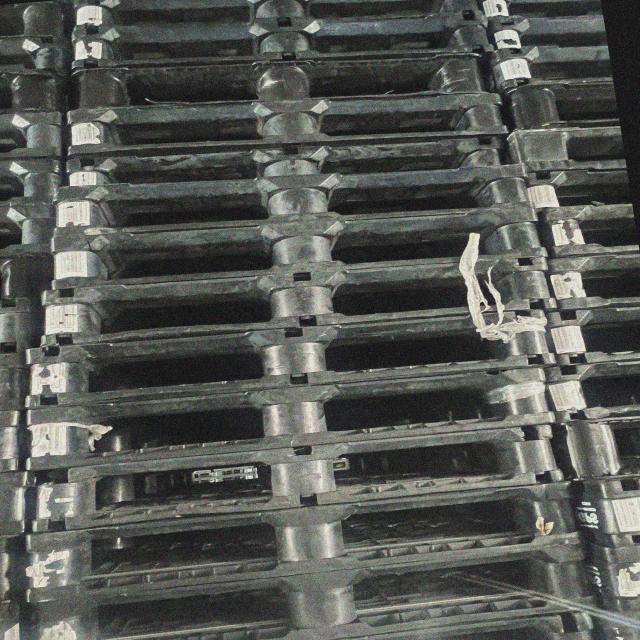igps: (18, 472, 589, 611), (17, 418, 572, 542), (16, 361, 560, 478), (19, 306, 563, 416), (29, 535, 596, 640), (36, 248, 564, 354), (45, 202, 556, 300), (46, 156, 540, 245), (57, 88, 513, 161), (68, 43, 486, 116), (67, 8, 500, 75), (60, 128, 510, 192), (67, 0, 495, 50), (261, 599, 601, 640), (472, 45, 616, 97), (476, 12, 614, 66), (529, 198, 640, 263), (540, 356, 640, 428), (496, 78, 625, 133), (497, 123, 630, 176), (520, 166, 638, 224), (541, 301, 640, 369), (547, 412, 640, 484), (539, 249, 640, 314), (563, 473, 640, 552), (578, 534, 640, 614), (0, 65, 86, 119), (0, 108, 74, 162), (0, 33, 85, 80), (0, 293, 47, 373), (0, 153, 72, 205), (0, 198, 59, 260), (0, 0, 80, 45), (470, 0, 606, 23), (0, 406, 36, 476), (585, 598, 640, 640), (0, 364, 33, 413)
